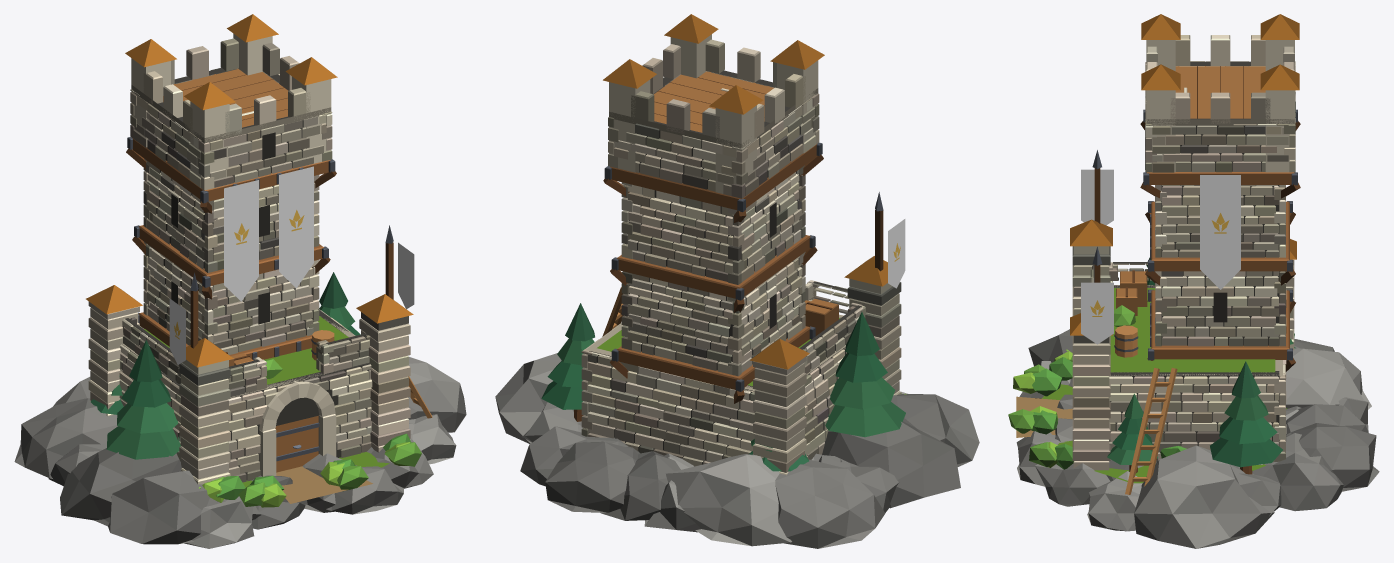
File: tower.glb
3 views of the same model, side by side, from view 1: azimuth 30°, elevation 25°; view 2: azimuth 150°, elevation 25°; view 3: azimuth 270°, elevation 25° (orthographic). The views are drawn at different scales.
Visible parts, largest first — view 1: tower; view 2: tower; view 3: tower.
Boxes of the visible parts, x1,y1,x2,y2 form: tower: [14, 14, 466, 548]; tower: [495, 14, 979, 548]; tower: [1008, 14, 1379, 548].
Size of the model in its own units: 4.83 by 4.4 by 3.61.
